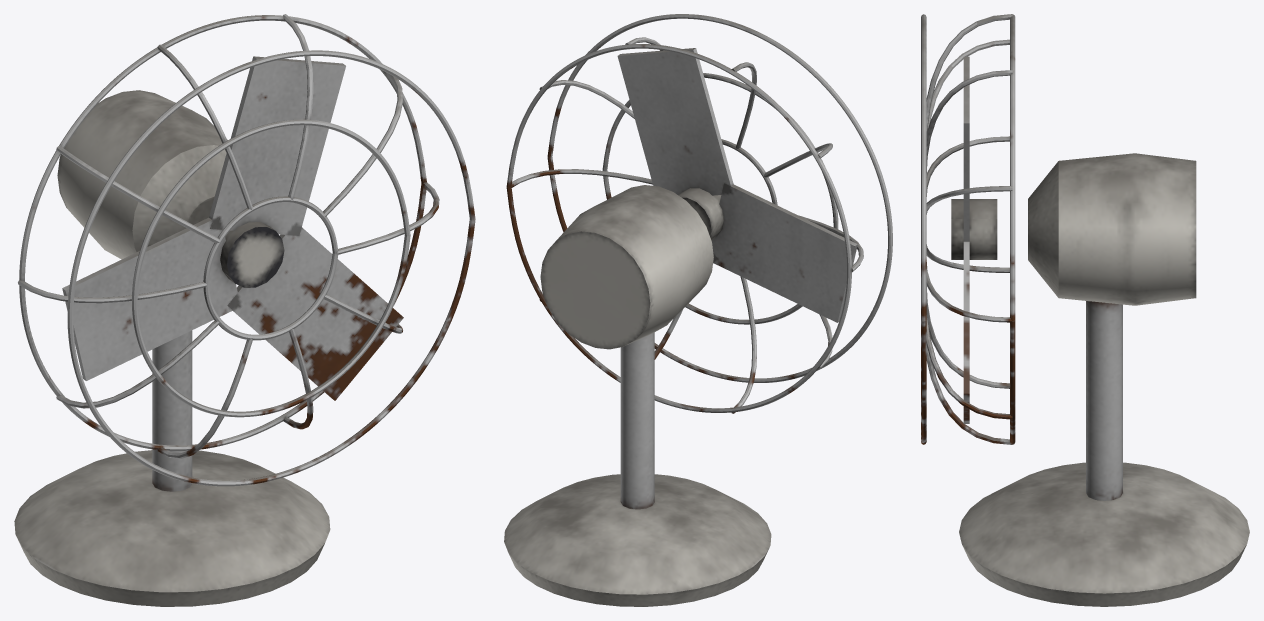
File: SM_DeskFan.fbx
3 renders of one model, left to right at view 1: azimuth 30°, elevation 25°; view 2: azimuth 150°, elevation 25°; view 3: azimuth 270°, elevation 25°, orthographic. The views are drawn at different scales.
Visible parts, largest first — view 1: SM_DeskFan; view 2: SM_DeskFan; view 3: SM_DeskFan.
Boxes of the visible parts, box(x1,y1,x2,y2) form: SM_DeskFan: box(14, 14, 475, 606); SM_DeskFan: box(504, 14, 892, 606); SM_DeskFan: box(921, 14, 1249, 606).
Bounding box in the file's own units: 0.2836 × 0.3706 × 0.2148.
1 material, 1 textured.
